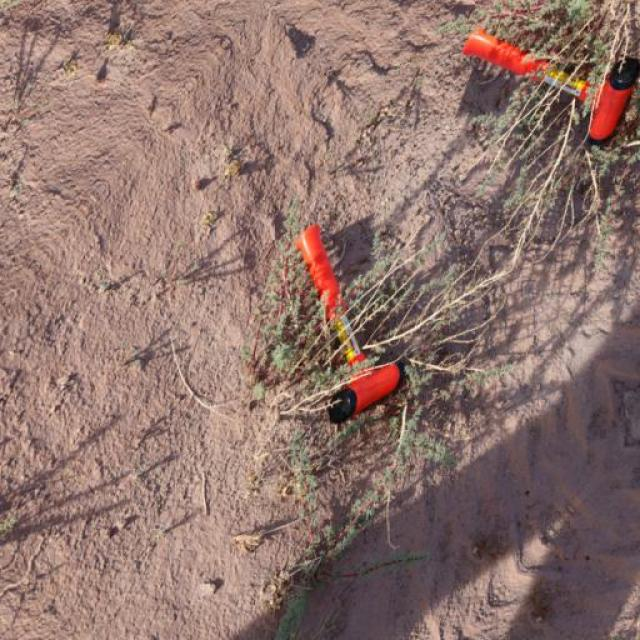mallet: (295, 222, 366, 366), (460, 25, 590, 103)
